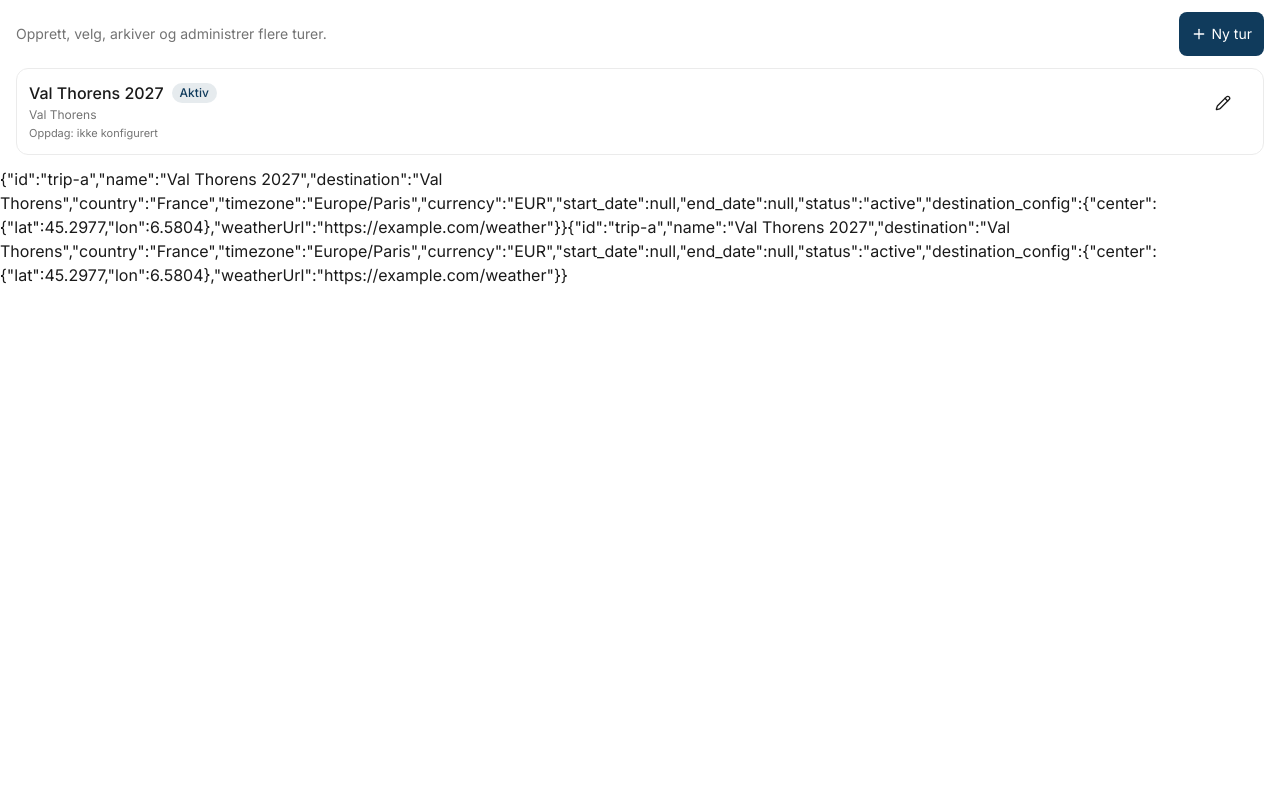
it: faktisk turlagring gjennom AdminTrips og TripProvider › viser serverfeil i skjemaet og beholder datoene uten å vise falsk suksess
This screenshot has width=1280, height=800.
Click the button named "Rediger tur" at (1229, 103), box [1207,81,1251,125]
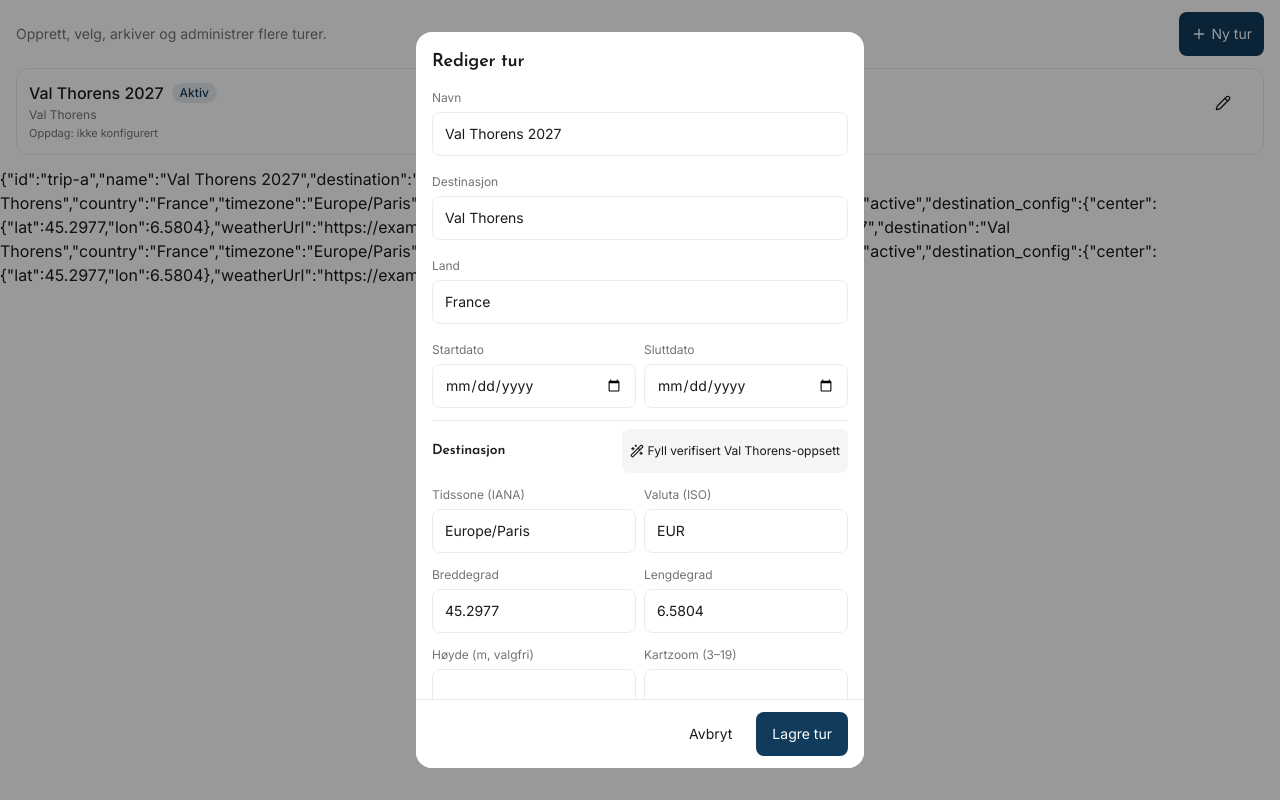
Type "2027-02-10" into the date field labelled "Startdato" at (534, 386), box [432,364,636,408]
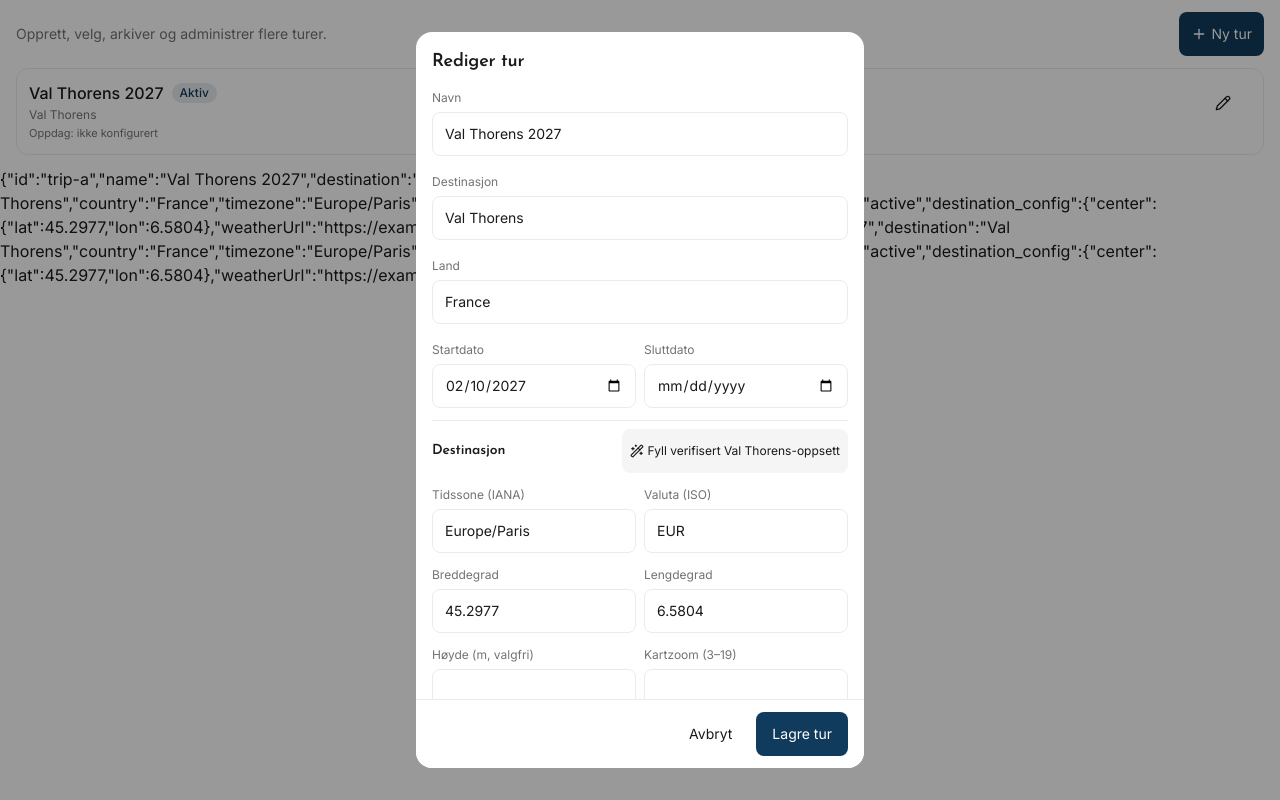
Type "2027-02-17" into the date field labelled "Sluttdato" at (746, 386), box [644,364,848,408]
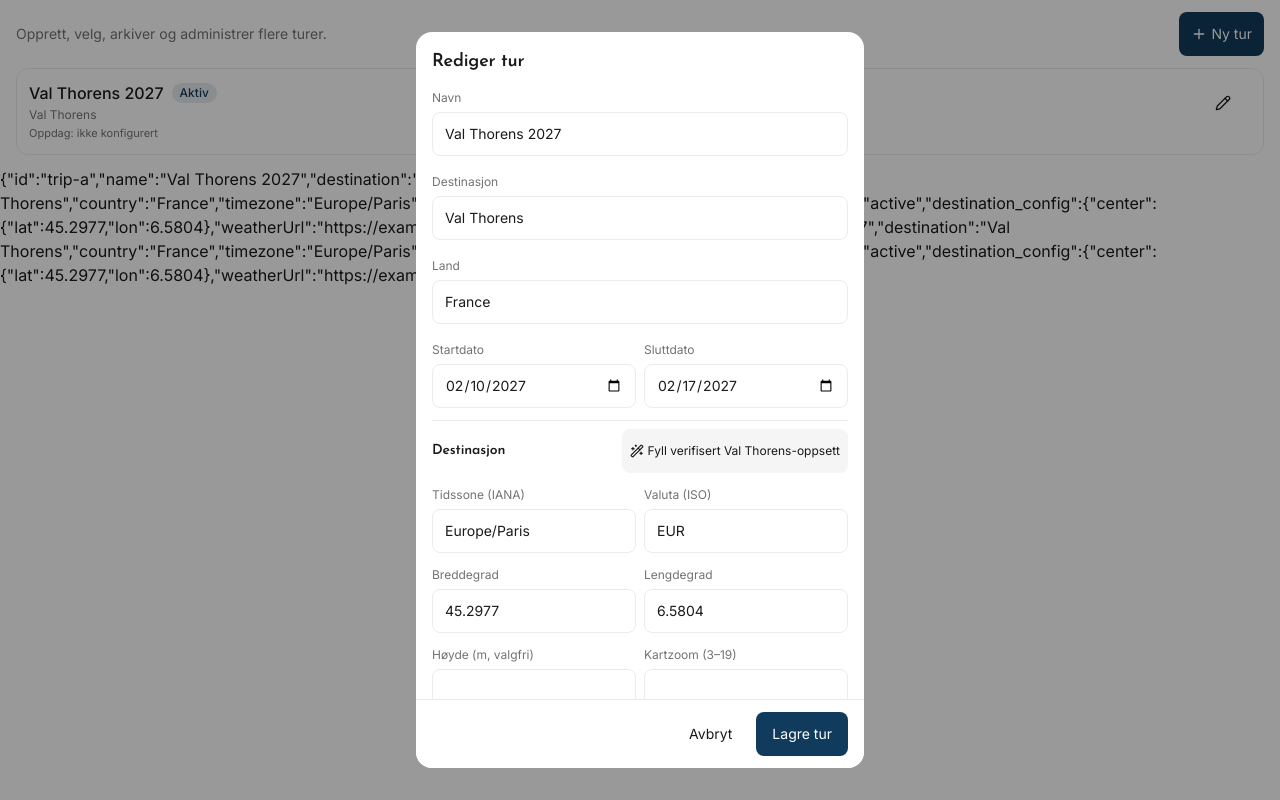
Click the button "Lagre tur" at (802, 734), box [756,712,848,756]
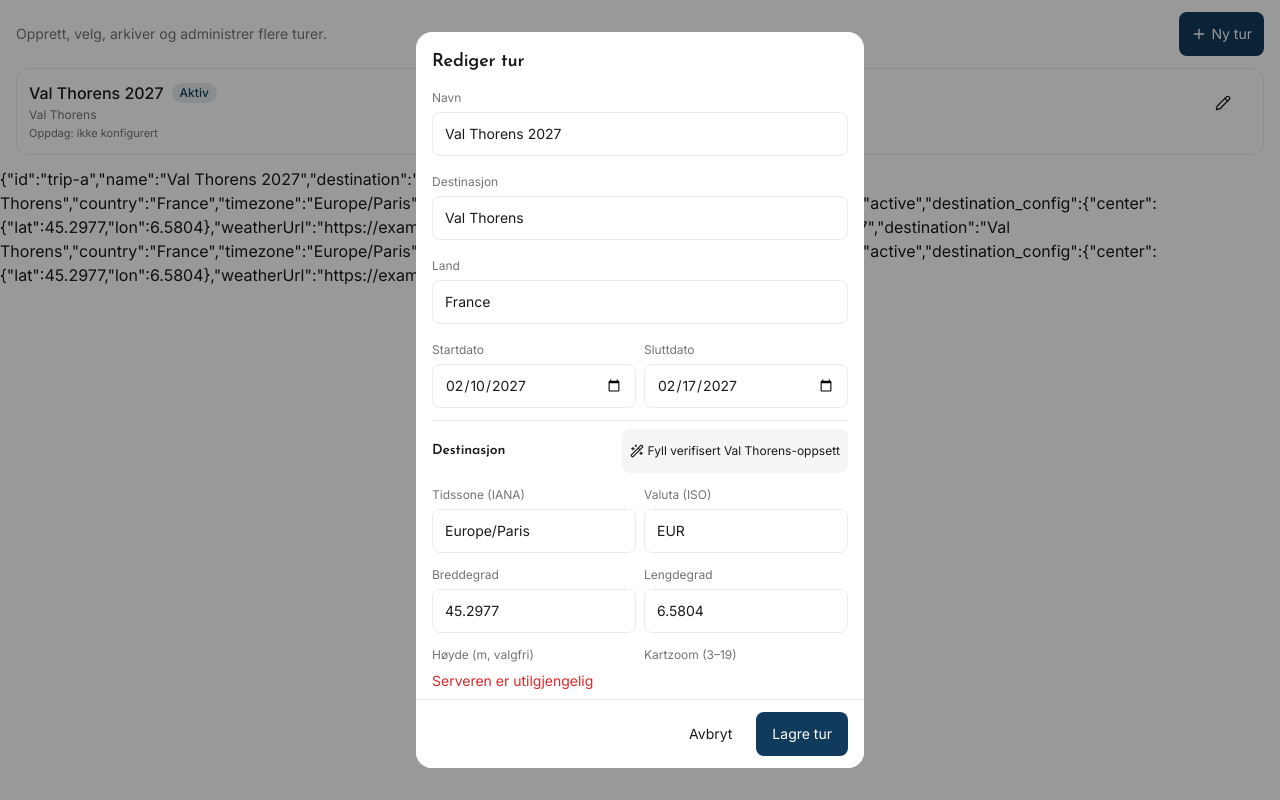
Now the message reads "Serveren er utilgjengelig", box [432,672,593,689]
